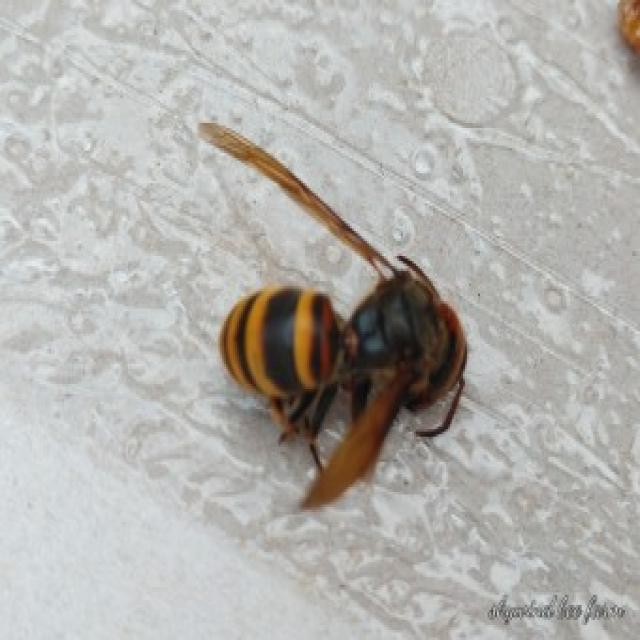Wasp: (216, 247, 472, 510)
